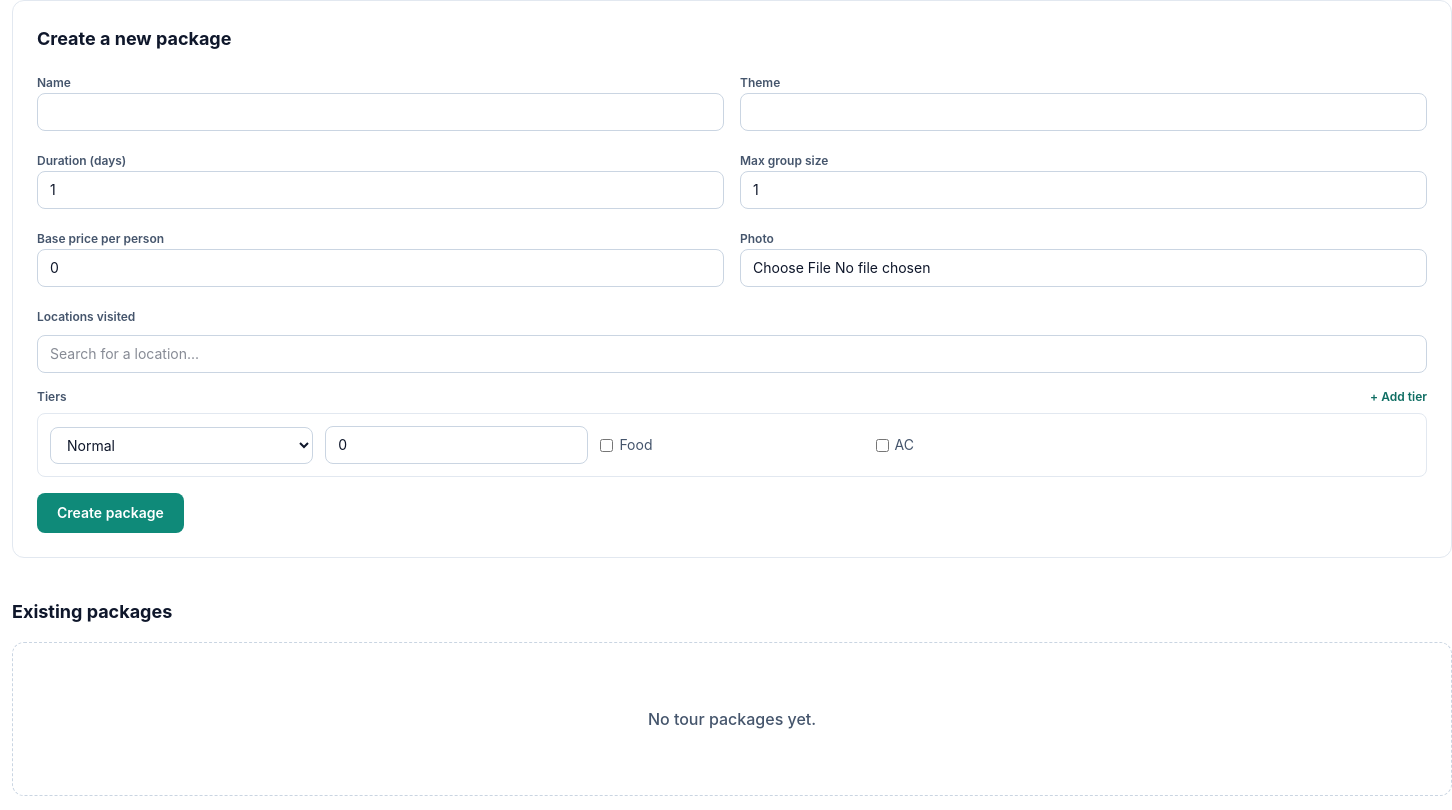
Test: PackageManager › create › shows an error and does not reset the form when createPackage fails
expect the text "No tour packages yet." is shown: met, box top-left (648, 709), bottom-right (816, 729)
Type "New Package" into the field labelled "Name" at {"x": 380, "y": 112}, box top-left (37, 93), bottom-right (724, 131)
Type "Adventure" into the field labelled "Theme" at {"x": 1084, "y": 112}, box top-left (740, 93), bottom-right (1427, 131)
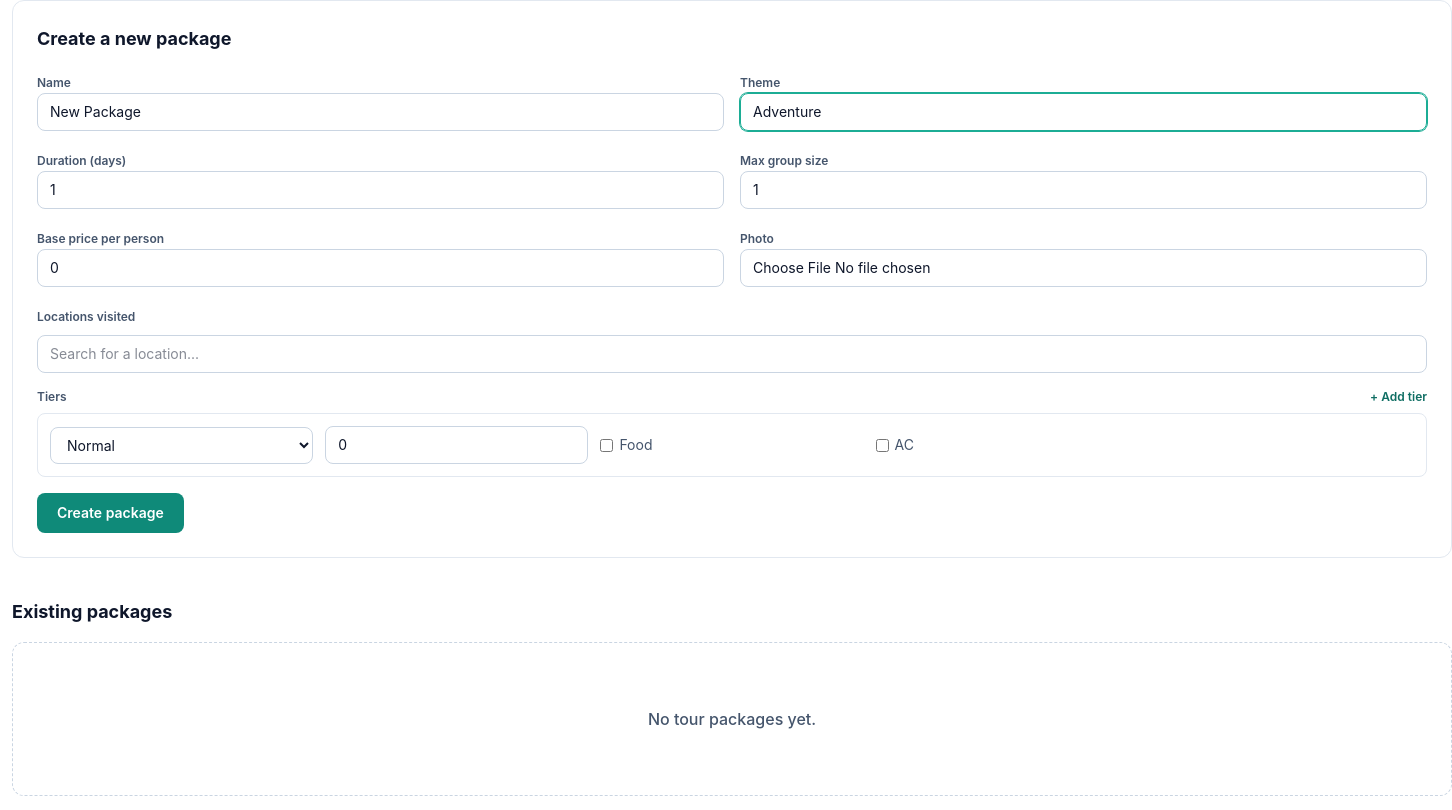
Replace the text in the number field labelled "Duration (days)" with "5" at {"x": 380, "y": 190}, box top-left (37, 171), bottom-right (724, 209)
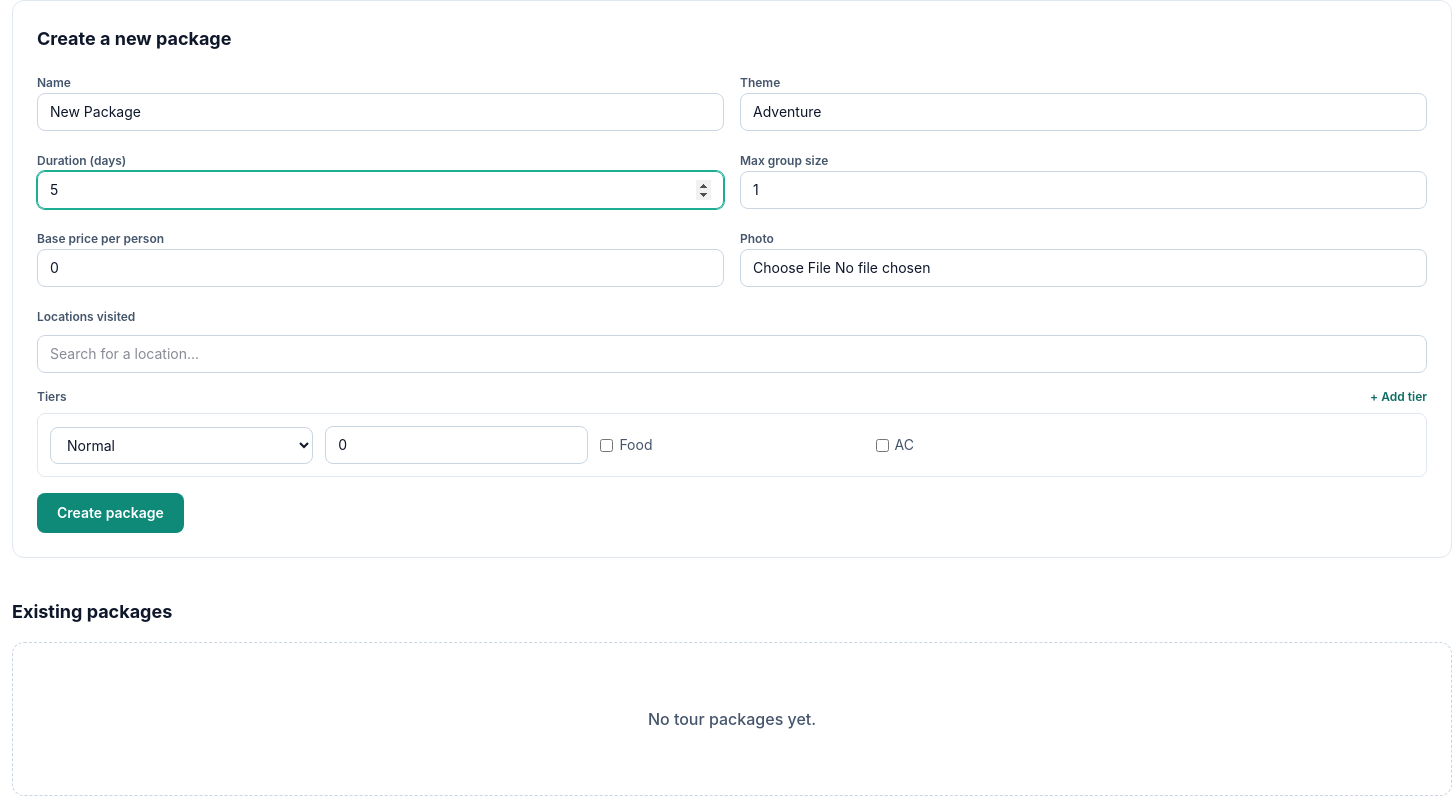
Replace the text in the number field labelled "Max group size" with "10" at {"x": 1084, "y": 190}, box top-left (740, 171), bottom-right (1427, 209)
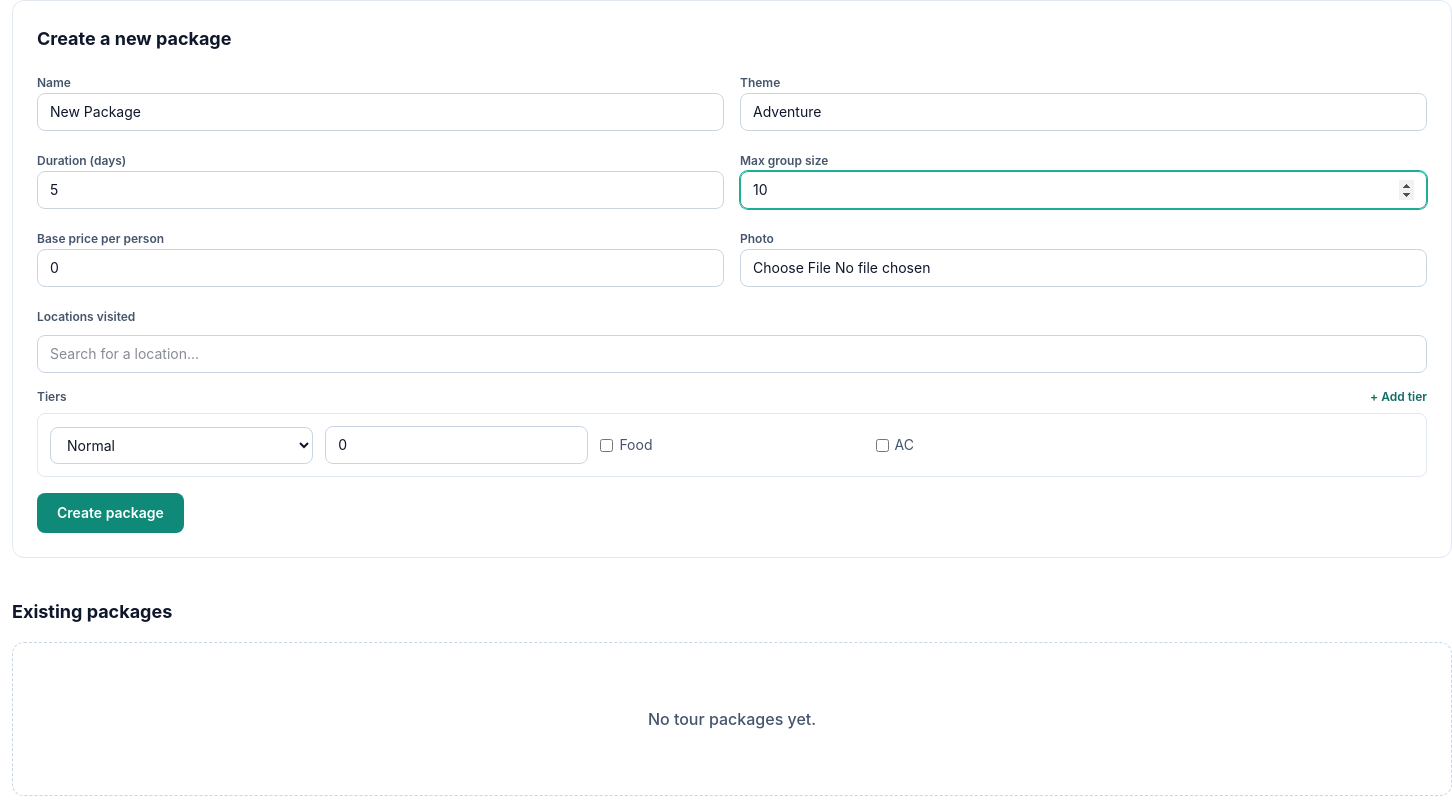
Replace the text in the number field labelled "Base price per person" with "199" at {"x": 380, "y": 268}, box top-left (37, 249), bottom-right (724, 287)
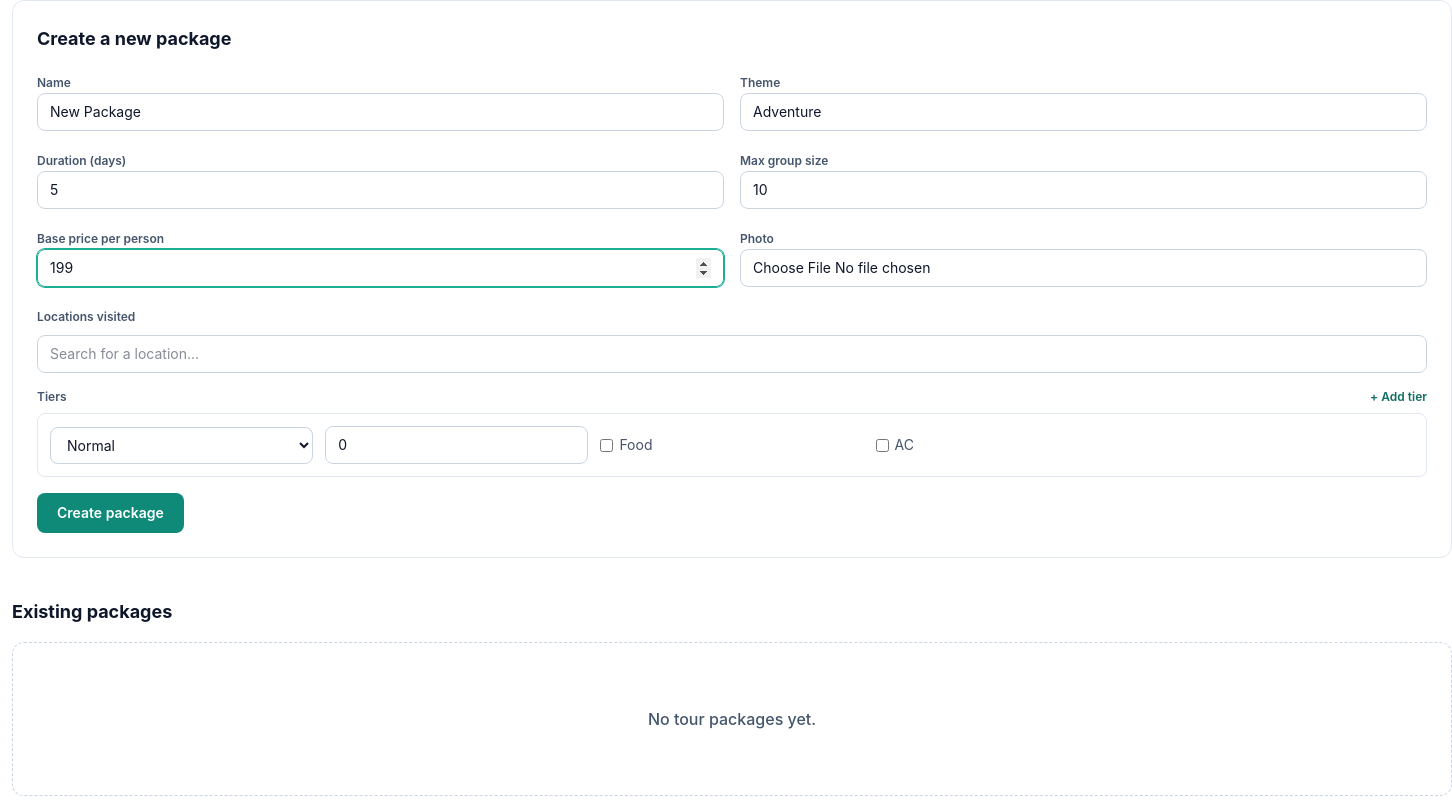
Replace the text in the number field with placeholder "Price" with "120" at {"x": 457, "y": 445}, box top-left (325, 426), bottom-right (588, 464)
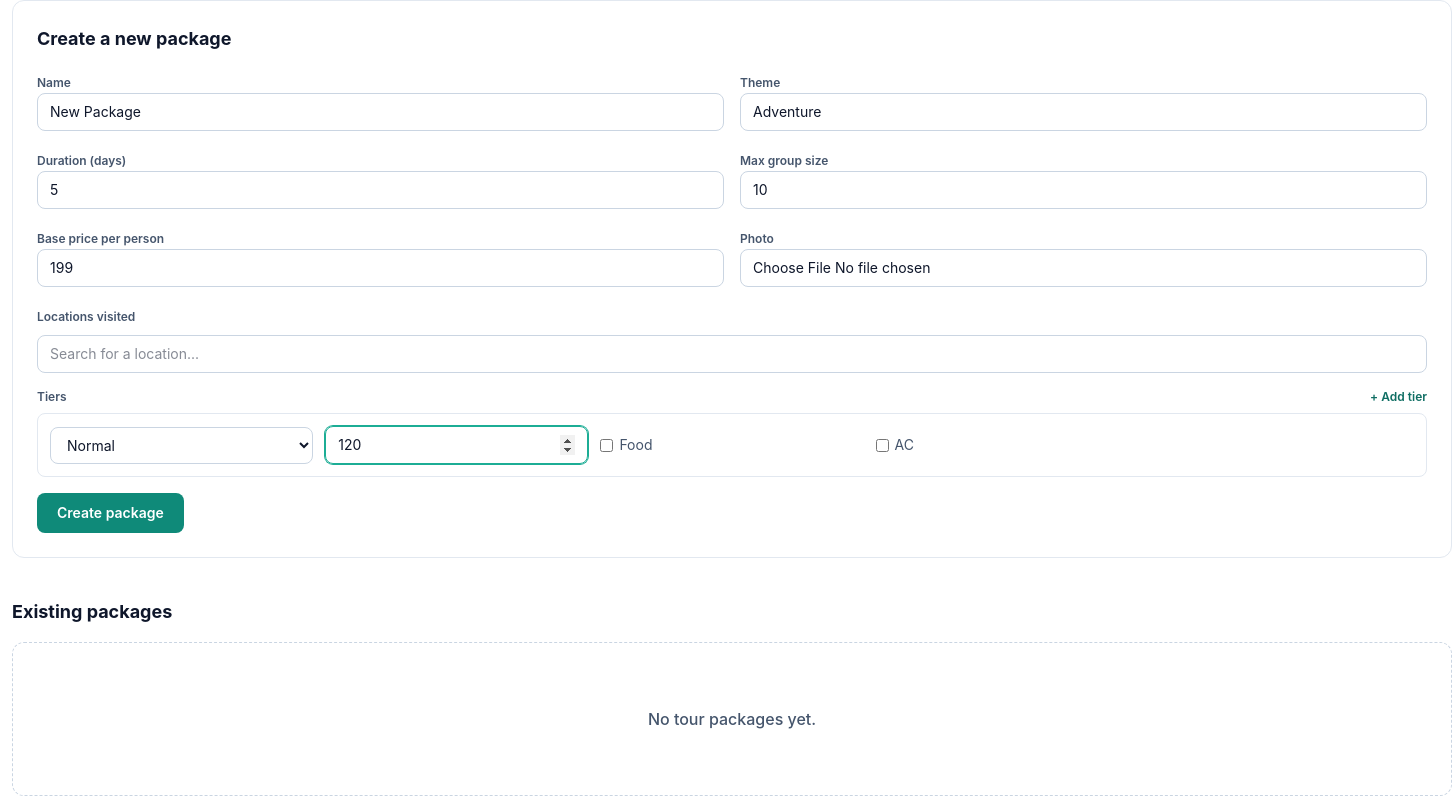
Click the button "Create package" at {"x": 110, "y": 513}, box top-left (37, 493), bottom-right (184, 533)
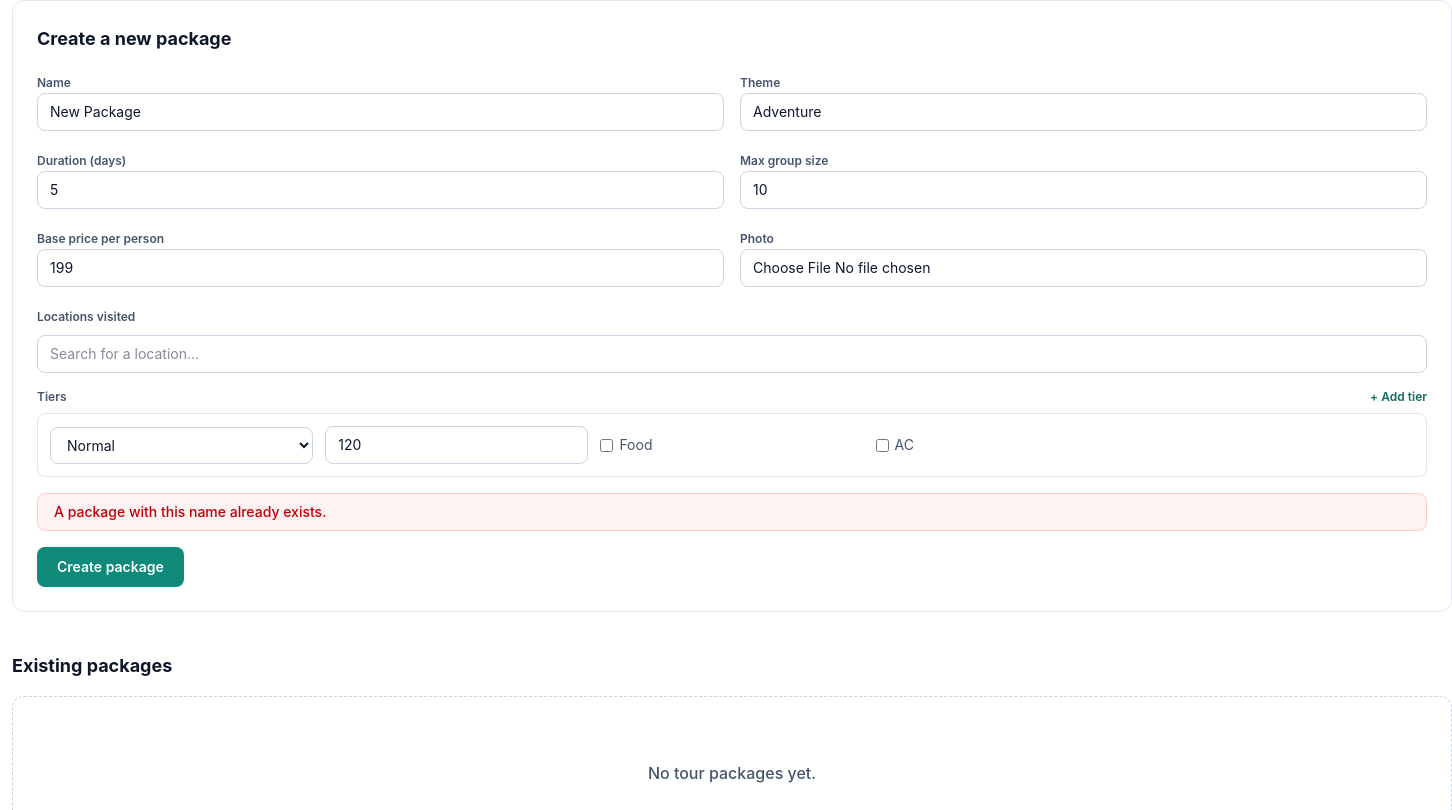
expect the text "A package with this name already exists." is shown: met, box top-left (37, 493), bottom-right (1427, 531)
